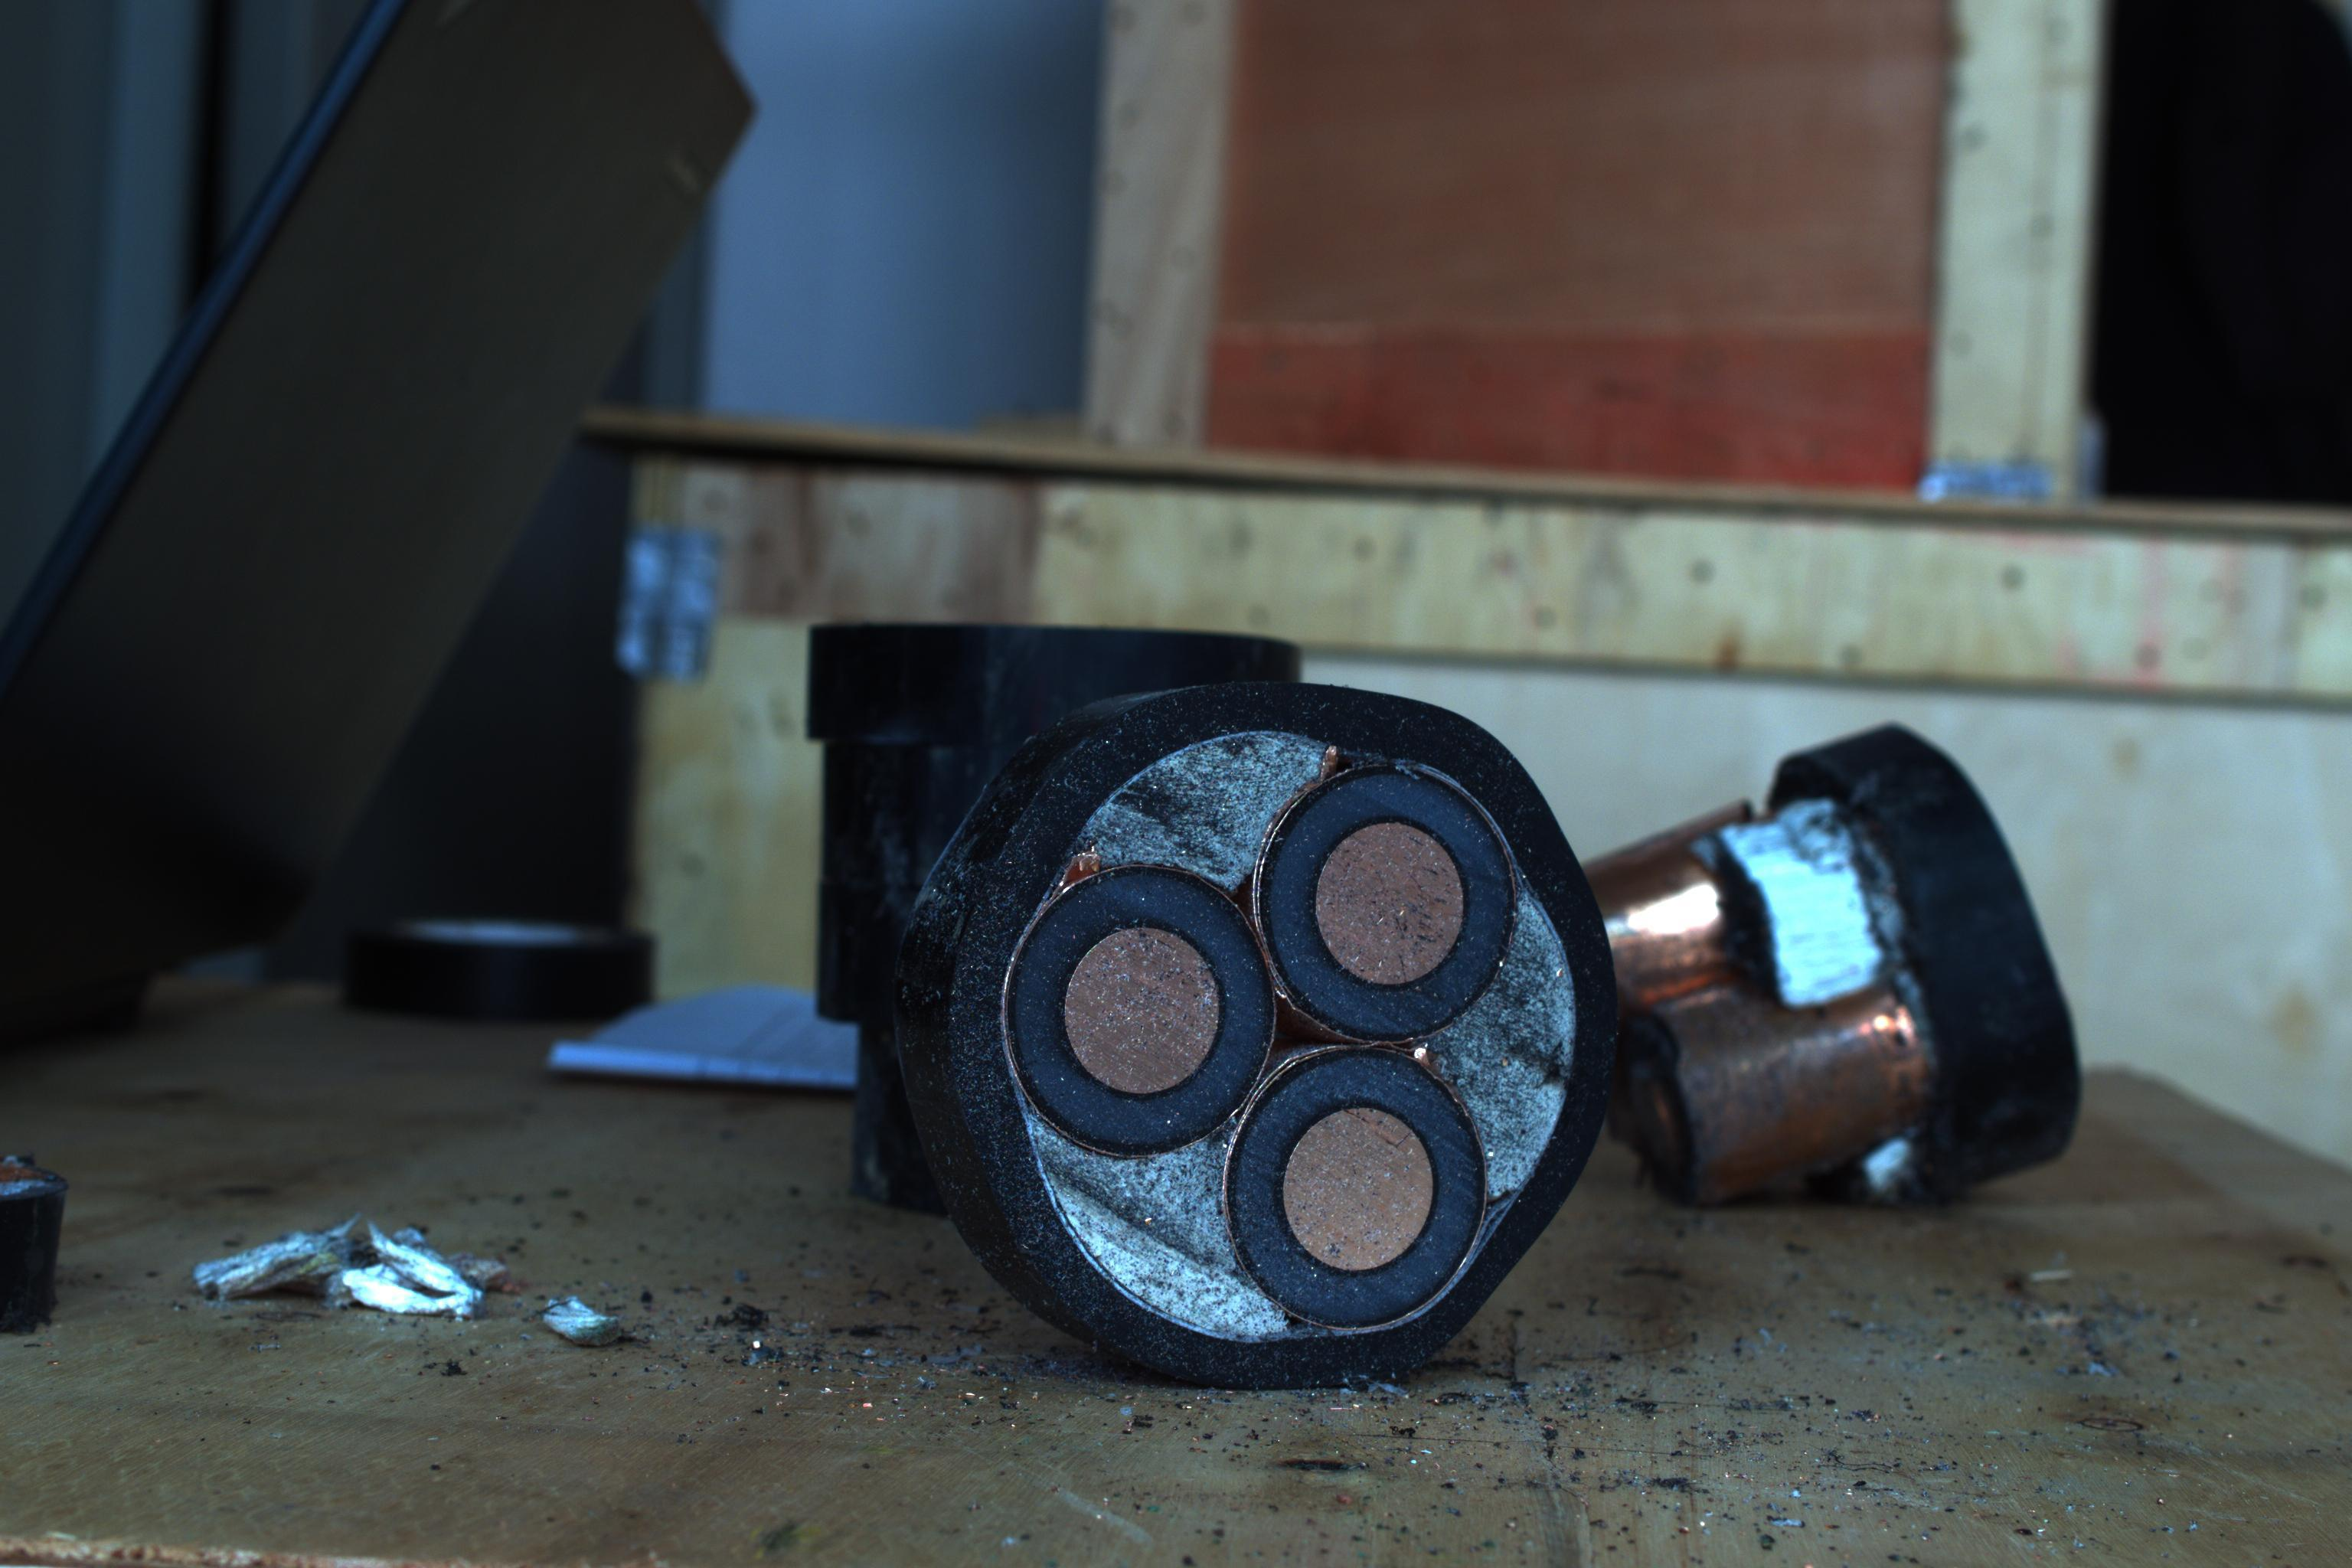ZA_YJV_8.7_10kV_3x240: (934, 688, 1615, 1379)
